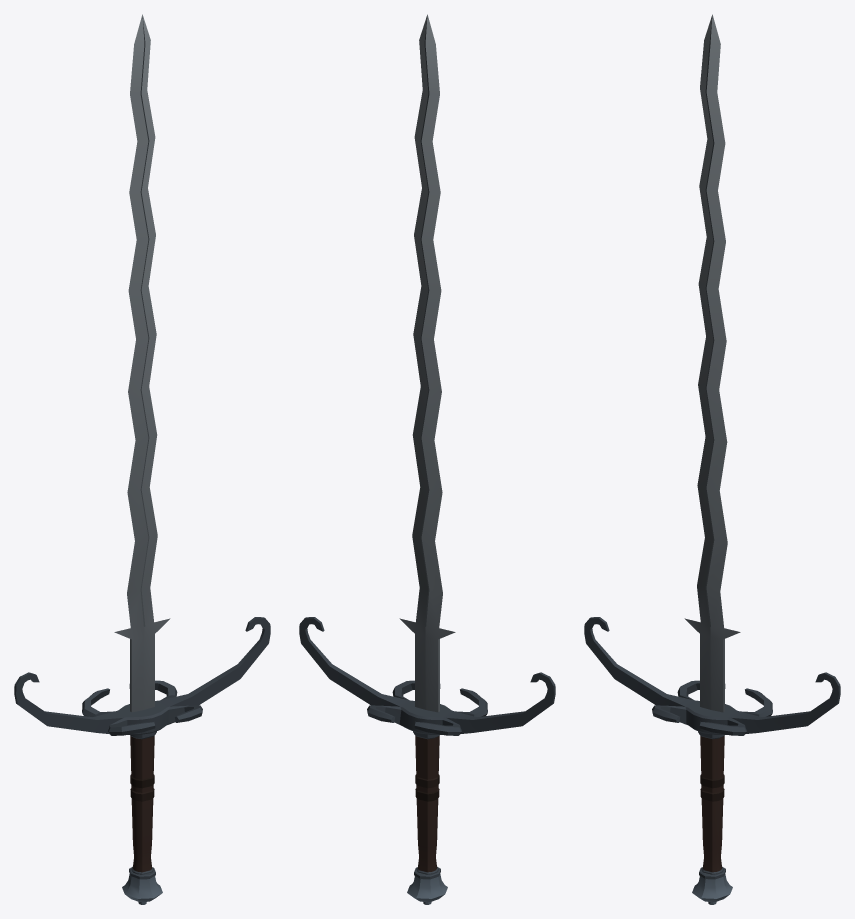
The model's file is SM_Sword10_FlameBladed_1.fbx.
3 renders of one model, left to right at view 1: azimuth 30°, elevation 25°; view 2: azimuth 150°, elevation 25°; view 3: azimuth 330°, elevation 25°, orthographic.
Parts seen in each view (by area): view 1: Cube.019, Cylinder.014, Cylinder.015, Sphere.007; view 2: Cube.019, Cylinder.014, Cylinder.015, Sphere.007; view 3: Cube.019, Cylinder.014, Cylinder.015, Sphere.007.
Boxes of the visible parts, bbox=[...] form: Cube.019: bbox=[114, 14, 170, 712]; Cylinder.014: bbox=[14, 617, 270, 735]; Cylinder.015: bbox=[130, 731, 156, 874]; Sphere.007: bbox=[122, 866, 162, 904]; Cube.019: bbox=[399, 14, 455, 712]; Cylinder.014: bbox=[299, 617, 555, 735]; Cylinder.015: bbox=[413, 731, 439, 874]; Sphere.007: bbox=[407, 866, 447, 904]; Cube.019: bbox=[684, 14, 740, 712]; Cylinder.014: bbox=[584, 617, 840, 735]; Cylinder.015: bbox=[698, 731, 724, 874]; Sphere.007: bbox=[692, 866, 732, 904].
Size of the model in its own units: 0.4565 by 1.52 by 0.1531.
